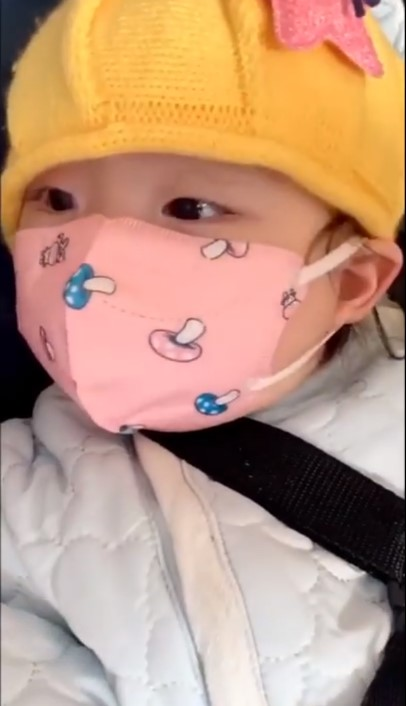face_with_mask: (3, 2, 405, 443)
